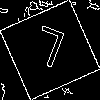L: (25, 25, 68, 77)
